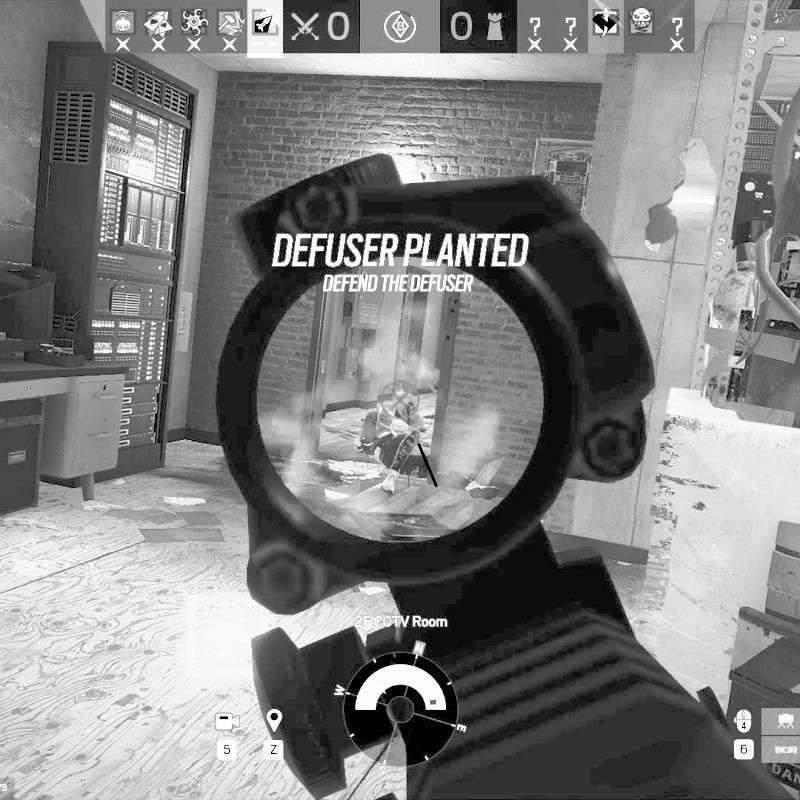Character: (356, 390, 501, 504)
Head: (391, 392, 419, 419)
